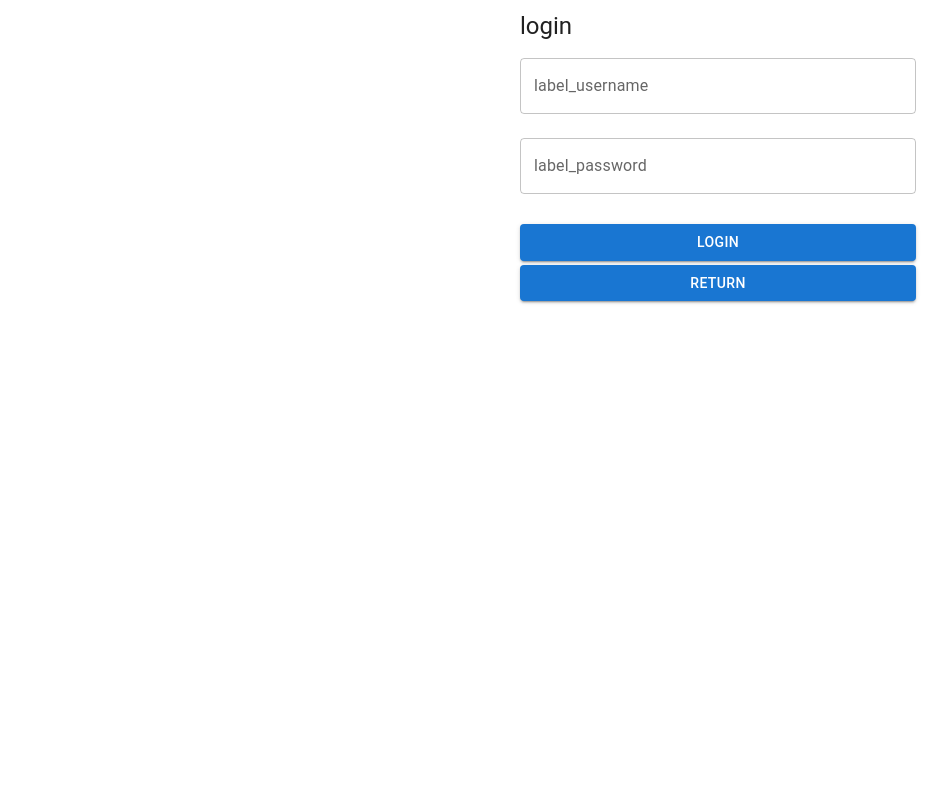
Login component › should handle error when logging in user
Simulate user input
Type "testUser" into the field labelled "label_username". click: (718, 86)
box: 520,58 -> 916,114
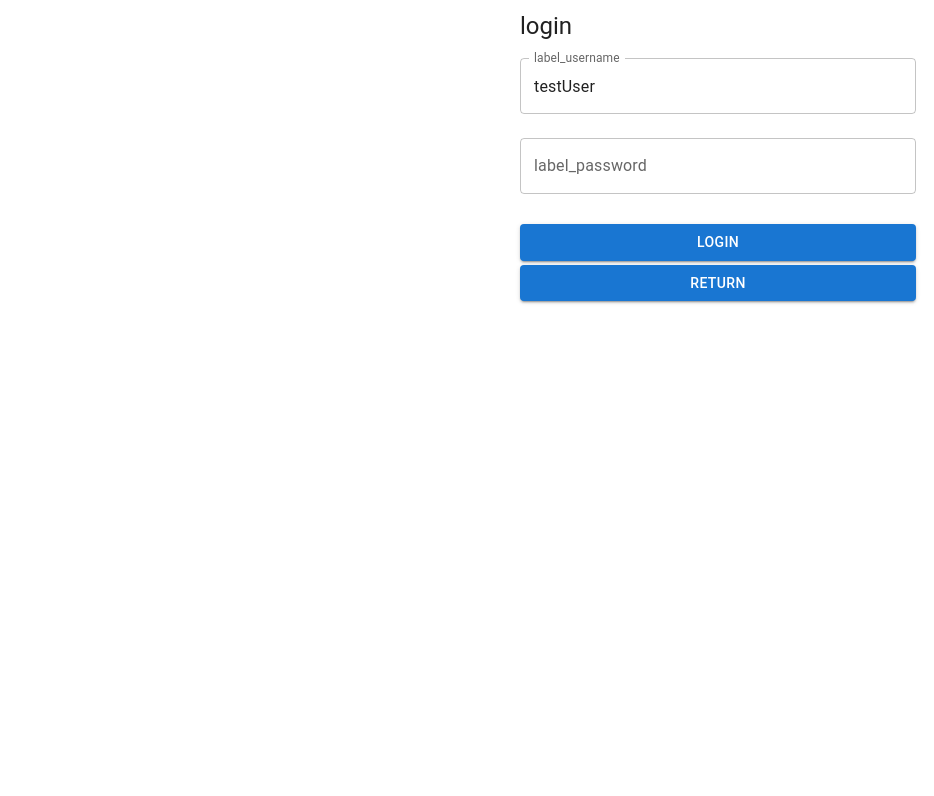
Type "testPassword" into the password field labelled "label_password". click: (718, 166)
box: 520,138 -> 916,194
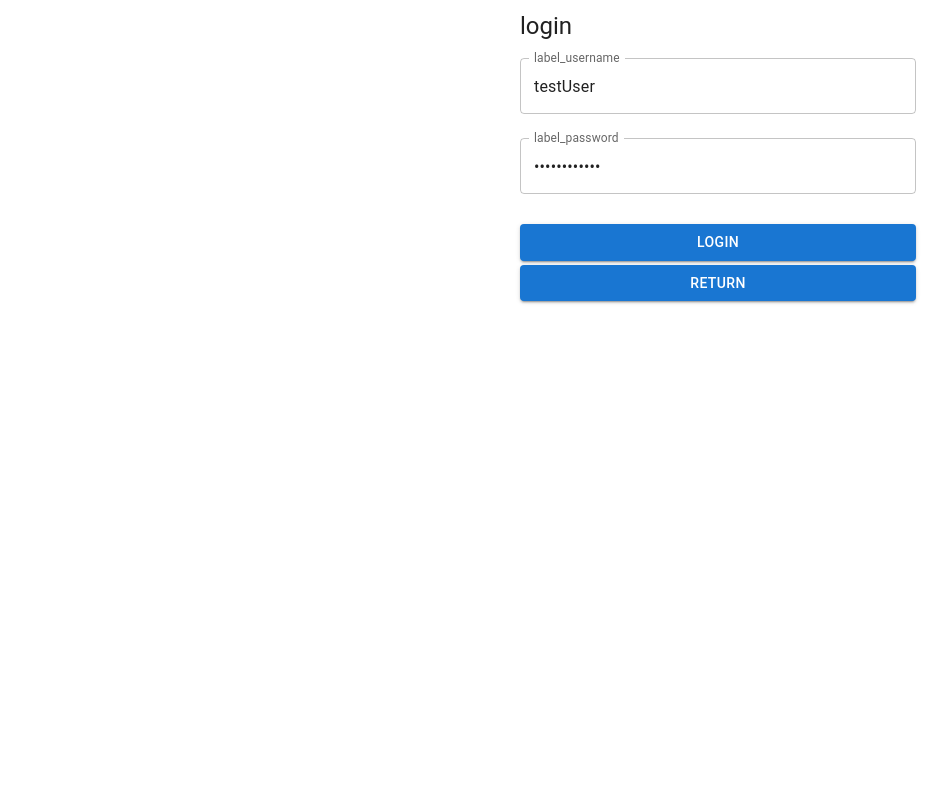
Trigger the login button click
Click the button "login". click: (718, 242)
box: 520,224 -> 916,260
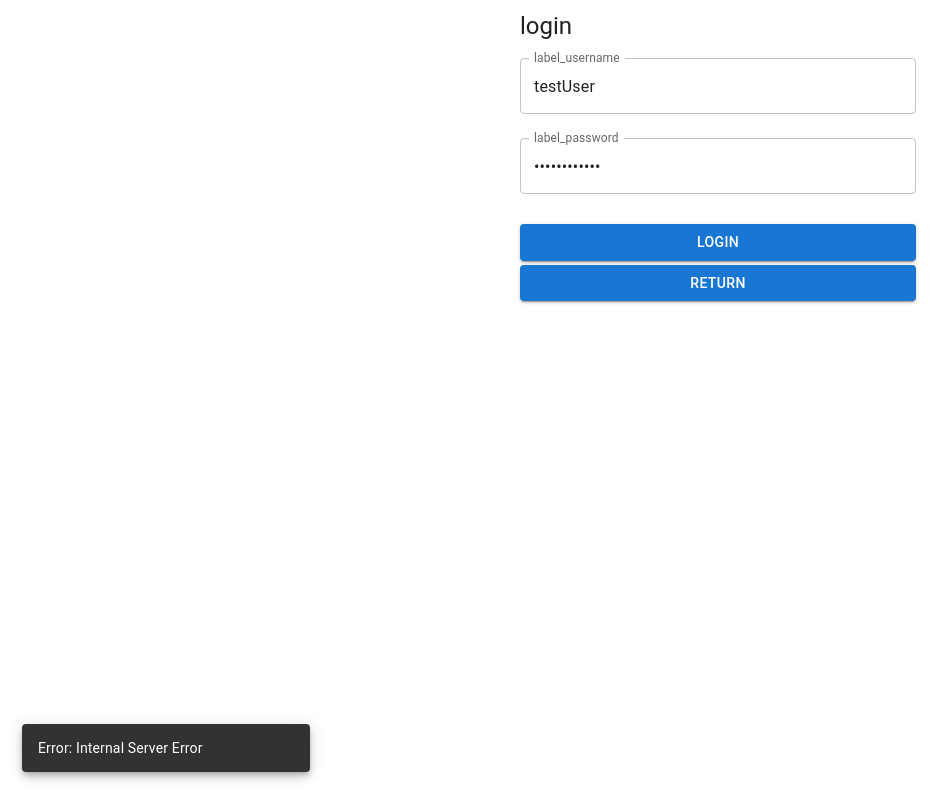
Result: the element with test id "login-error-snackbar" is shown at 22,724 -> 310,772
